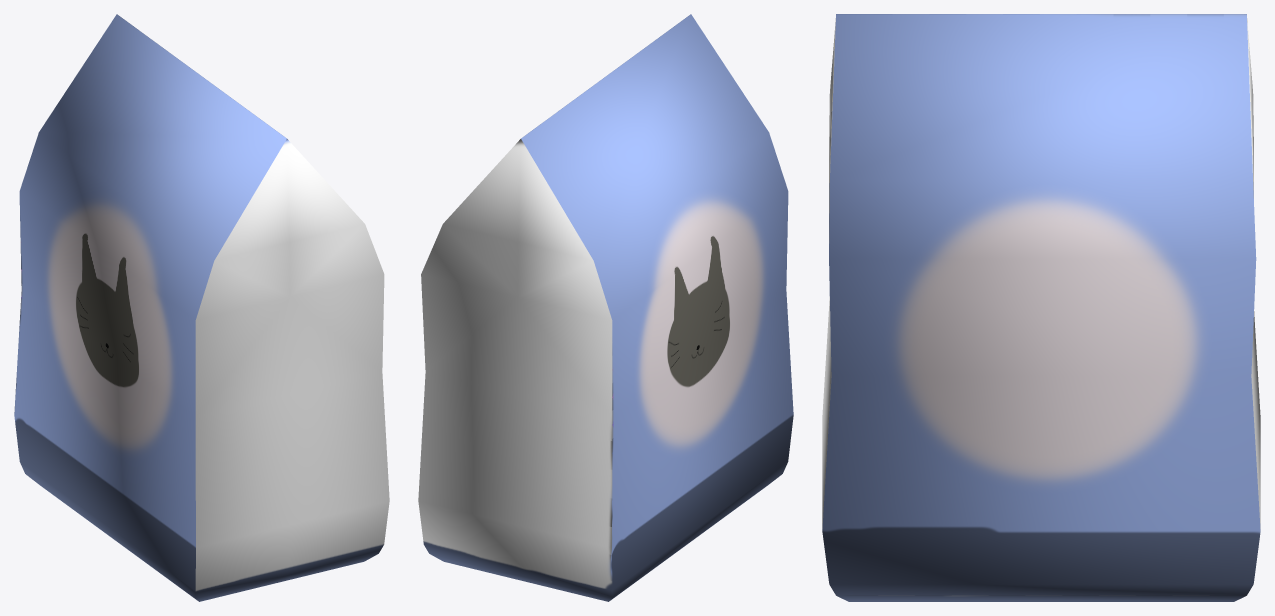
Rendered from Cat food.fbx.
3 views of the same model, side by side, from view 1: azimuth 30°, elevation 25°; view 2: azimuth 150°, elevation 25°; view 3: azimuth 270°, elevation 25° (orthographic). The views are drawn at different scales.
Parts seen in each view (by area): view 1: Cube; view 2: Cube; view 3: Cube.
Part boxes in pixels (x1=…): Cube: x1=14, y1=14, x2=389, y2=601; Cube: x1=418, y1=14, x2=793, y2=601; Cube: x1=822, y1=14, x2=1260, y2=601.
Bounding box in the file's own units: 30.25 × 66.74 × 49.14.
1 material, 1 textured.
